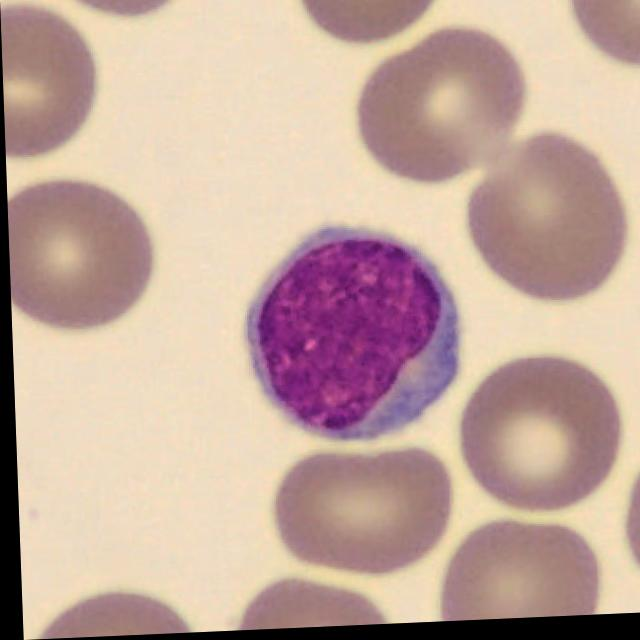Linfocito: (241, 232, 461, 446)
